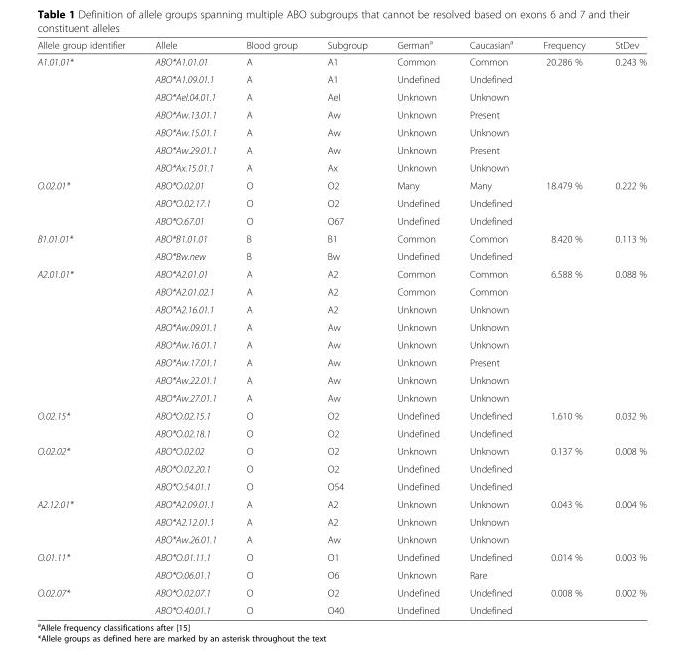table: (36, 37, 645, 615)
table column: (36, 37, 139, 615), (139, 37, 230, 615), (230, 37, 311, 615), (453, 37, 527, 615), (381, 37, 453, 615), (527, 37, 599, 615), (311, 37, 381, 615), (599, 37, 645, 615)
table column header: (36, 37, 645, 52)
table row: (36, 52, 645, 70), (36, 87, 645, 105), (36, 105, 645, 123), (36, 140, 645, 158), (36, 158, 645, 176), (36, 176, 645, 194), (36, 211, 645, 229), (36, 229, 645, 247), (36, 264, 645, 282), (36, 282, 645, 300), (36, 317, 645, 335), (36, 335, 645, 353), (36, 353, 645, 371), (36, 388, 645, 406), (36, 406, 645, 424), (36, 441, 645, 459), (36, 459, 645, 477), (36, 477, 645, 495), (36, 512, 645, 530), (36, 530, 645, 548), (36, 565, 645, 583), (36, 583, 645, 601), (36, 70, 645, 87), (36, 123, 645, 140), (36, 194, 645, 211), (36, 247, 645, 264), (36, 300, 645, 317), (36, 371, 645, 388), (36, 424, 645, 441), (36, 495, 645, 512), (36, 548, 645, 565), (36, 37, 645, 52), (36, 601, 645, 615)
table spanning cell: (36, 264, 139, 406), (36, 52, 139, 176), (527, 264, 599, 406), (527, 52, 599, 176), (599, 264, 645, 406), (599, 52, 645, 176), (36, 441, 139, 495), (36, 176, 139, 229), (36, 495, 139, 548), (527, 441, 599, 495), (527, 176, 599, 229), (527, 495, 599, 548), (36, 229, 139, 264), (36, 406, 139, 441), (36, 548, 139, 583), (36, 583, 139, 615), (527, 229, 599, 264), (527, 406, 599, 441), (527, 548, 599, 583), (599, 441, 645, 495), (599, 176, 645, 229), (599, 495, 645, 548), (527, 583, 599, 615), (599, 229, 645, 264), (599, 406, 645, 441), (599, 548, 645, 583), (599, 583, 645, 615)
